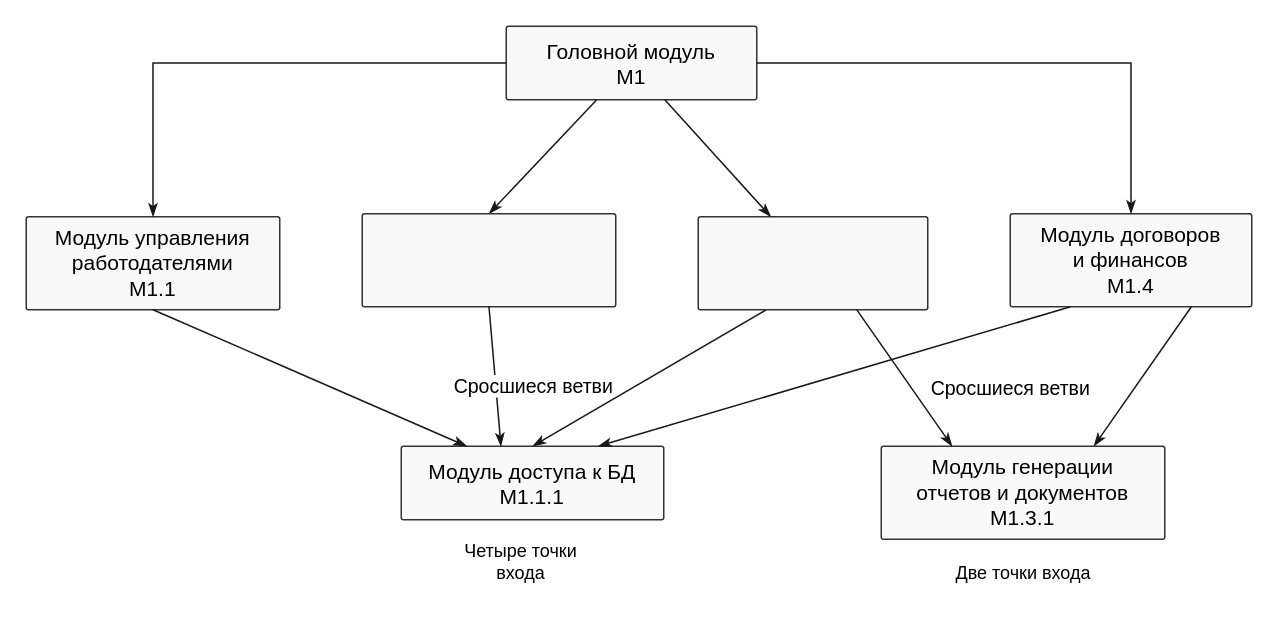
The diagram is 1278 pixels wide and 623 high, and some of its shapes have lost their labels. Each missing label, with the centre of its shape:
"Модуль вакансий и справочников M1.3" belongs at point (812, 262).
"Модуль управления соискателями M1.2" belongs at point (488, 259).
